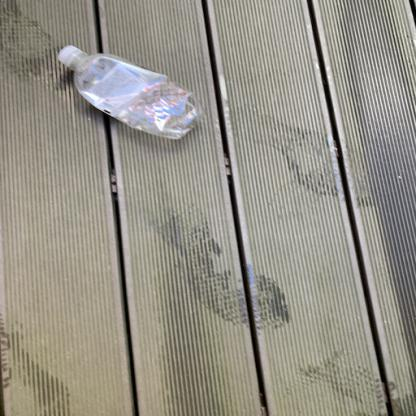plastic-bottles: (53, 40, 210, 144)
